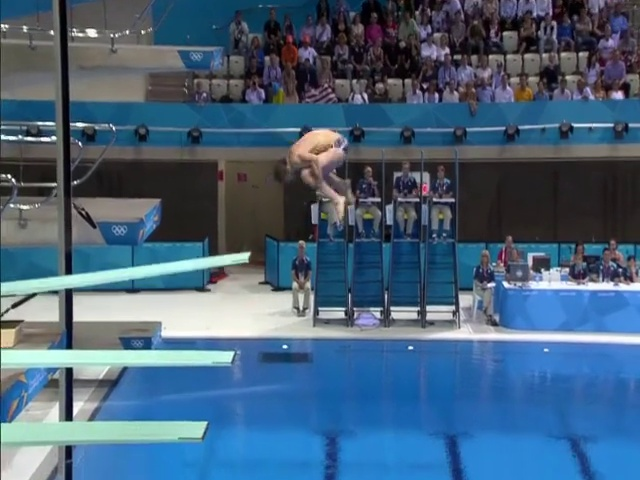diver: (273, 126, 352, 225)
